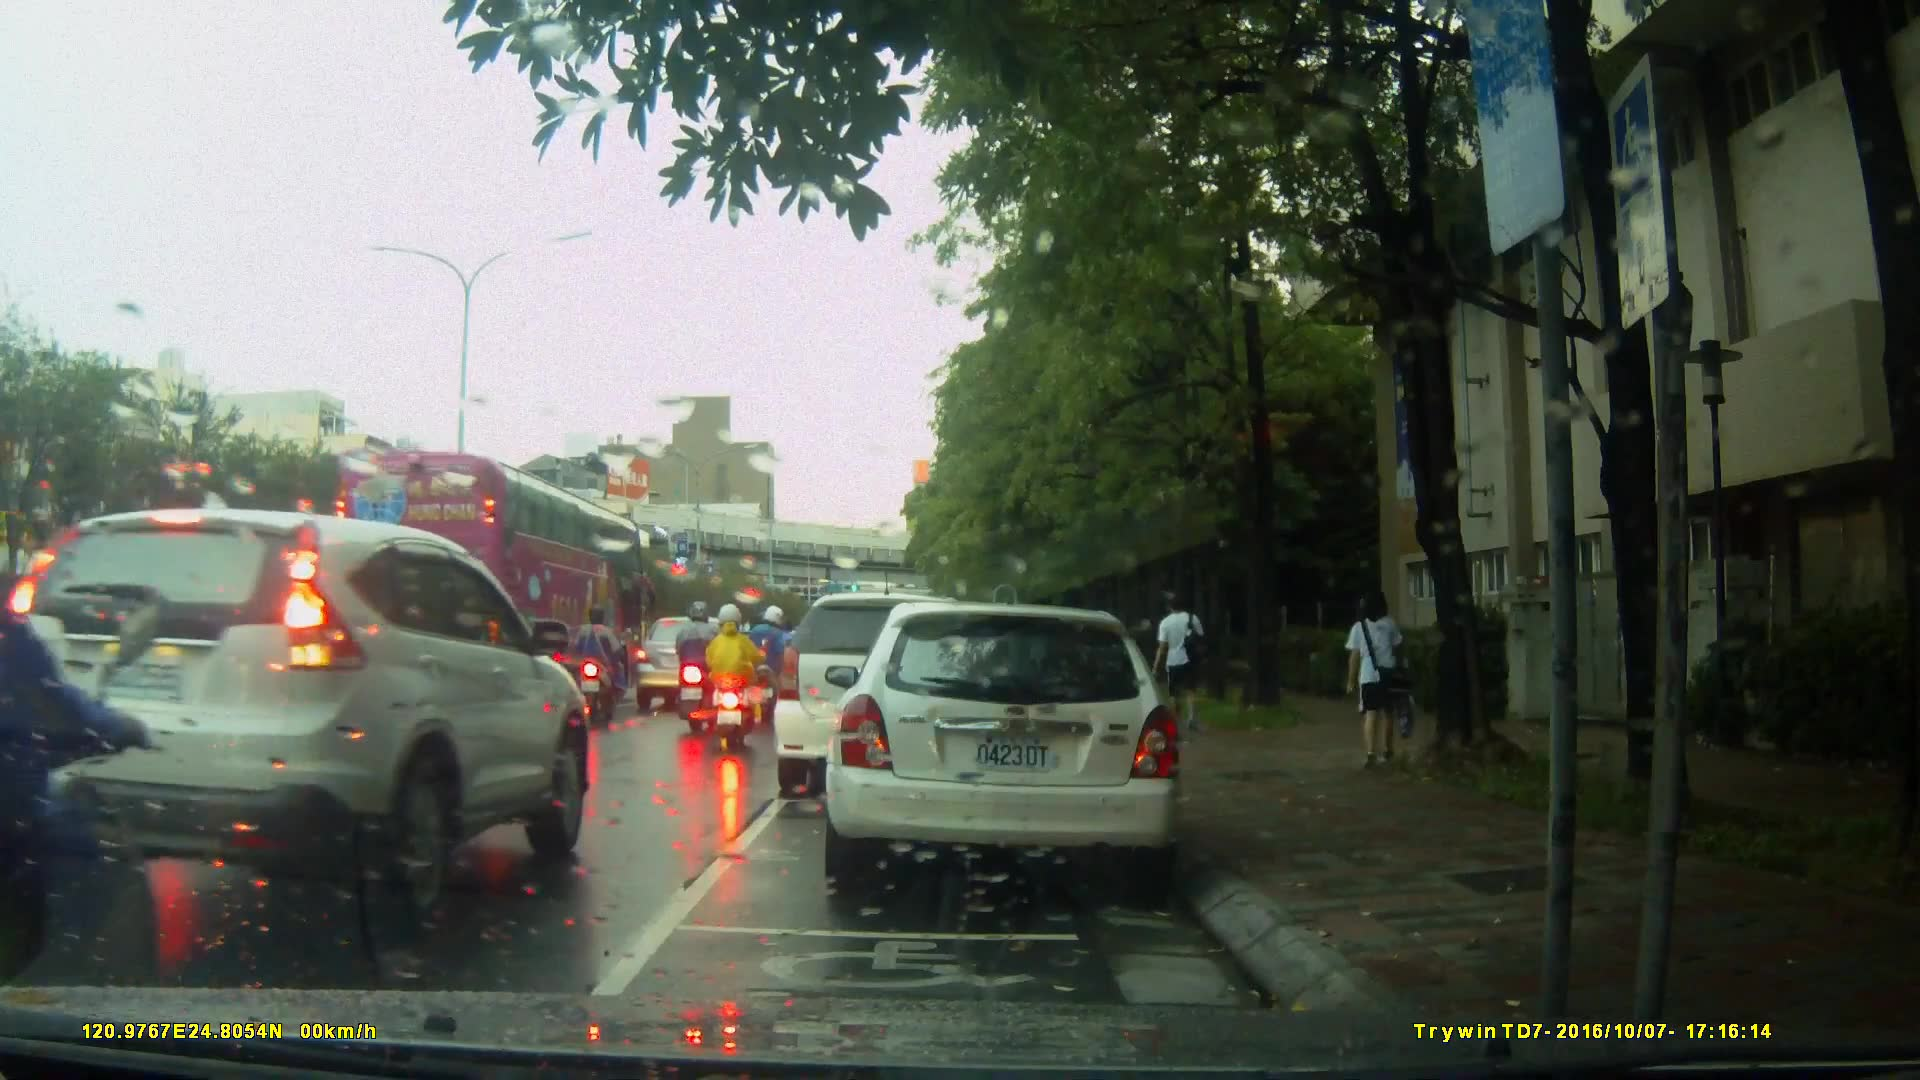pedestrian: (1336, 581, 1421, 783), (1153, 588, 1205, 731)
rider: (1, 515, 151, 1059), (700, 602, 757, 753), (667, 595, 721, 730), (567, 605, 632, 715), (746, 605, 798, 717)
vehicle: (9, 498, 590, 950), (835, 594, 1194, 898), (320, 452, 654, 696), (776, 590, 1026, 784), (634, 616, 750, 706)
